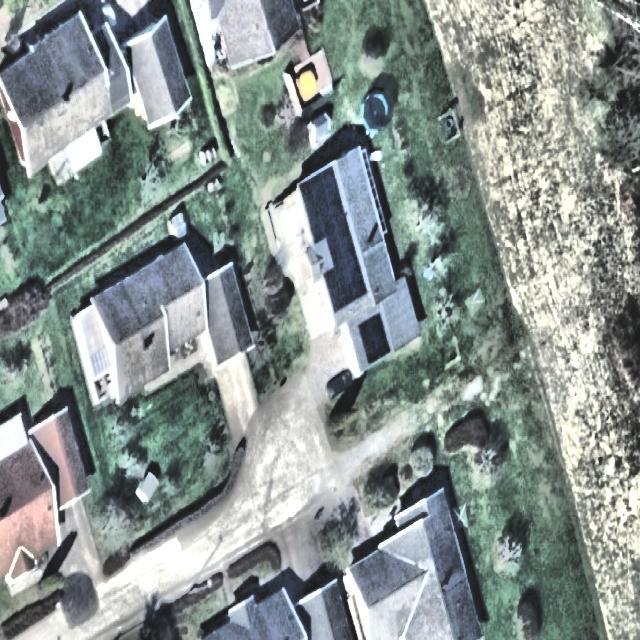roof_pv: (296, 167, 352, 230), (326, 262, 368, 312), (358, 313, 392, 363), (312, 229, 362, 261)
